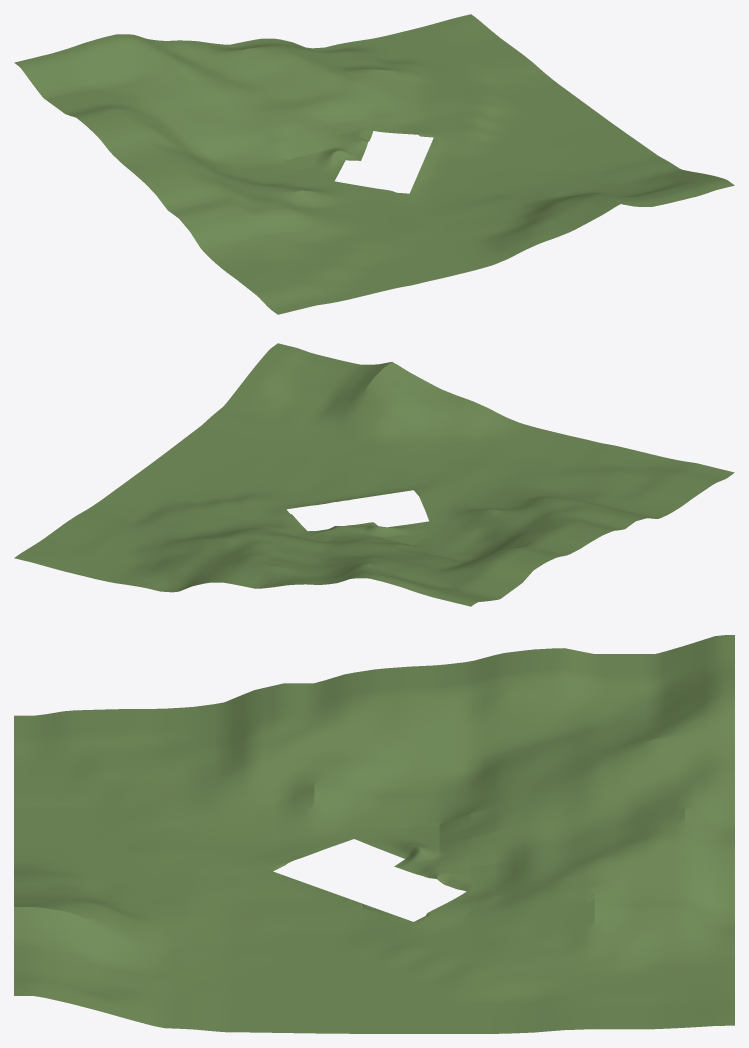
3 views of the same model, one above another, from view 1: azimuth 30°, elevation 25°; view 2: azimuth 150°, elevation 25°; view 3: azimuth 270°, elevation 25° (orthographic). The views are drawn at different scales.
Visible parts, largest first — view 1: surface_context-terrain; view 2: surface_context-terrain; view 3: surface_context-terrain.
Part boxes in pixels (<box>): surface_context-terrain: <box>14,14,734,314</box>; surface_context-terrain: <box>14,343,734,606</box>; surface_context-terrain: <box>14,635,734,1033</box>.
Bounding box in the file's own units: 720 × 109 × 720.
1 material, 1 textured.
